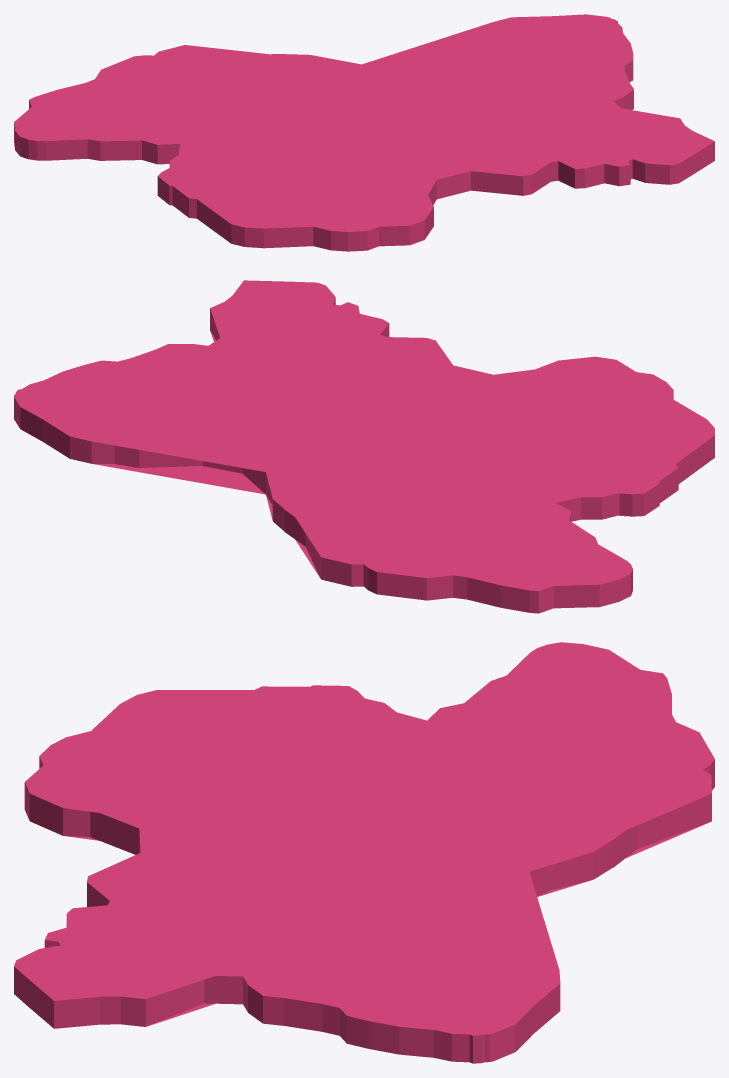
File: kashmir.fbx
3 views of the same model, one above another, from view 1: azimuth 30°, elevation 25°; view 2: azimuth 150°, elevation 25°; view 3: azimuth 270°, elevation 25° (orthographic). The views are drawn at different scales.
Parts seen in each view (by area): view 1: Jammu & Kashmir; view 2: Jammu & Kashmir; view 3: Jammu & Kashmir.
Boxes of the visible parts, box(x1,y1,x2,y2) form: Jammu & Kashmir: box(14, 14, 714, 251); Jammu & Kashmir: box(14, 280, 714, 613); Jammu & Kashmir: box(14, 642, 714, 1063).
Size of the model in its own units: 105 by 3.48 by 79.4.
